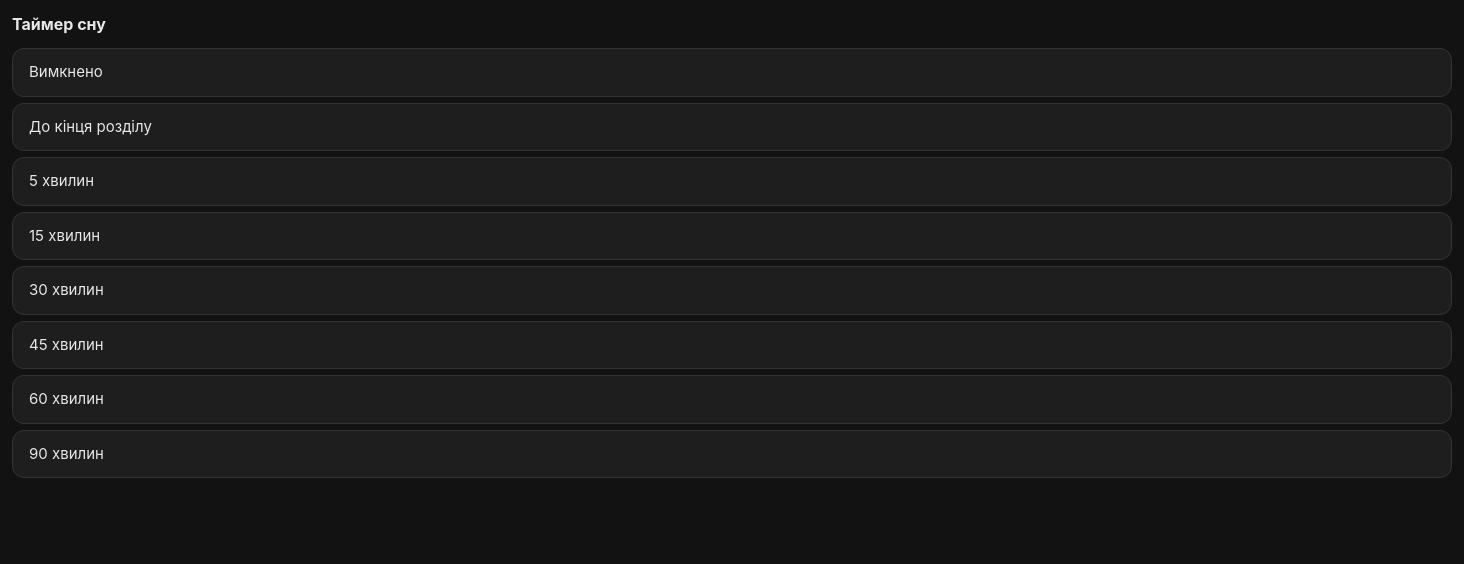
it: SleepTimerPane › arms a countdown, shows the remainder on the transport clock, and extends +15
Click the radio button "15 хвилин": (65, 235) [12,212,1452,260]
Wait 60000 ms
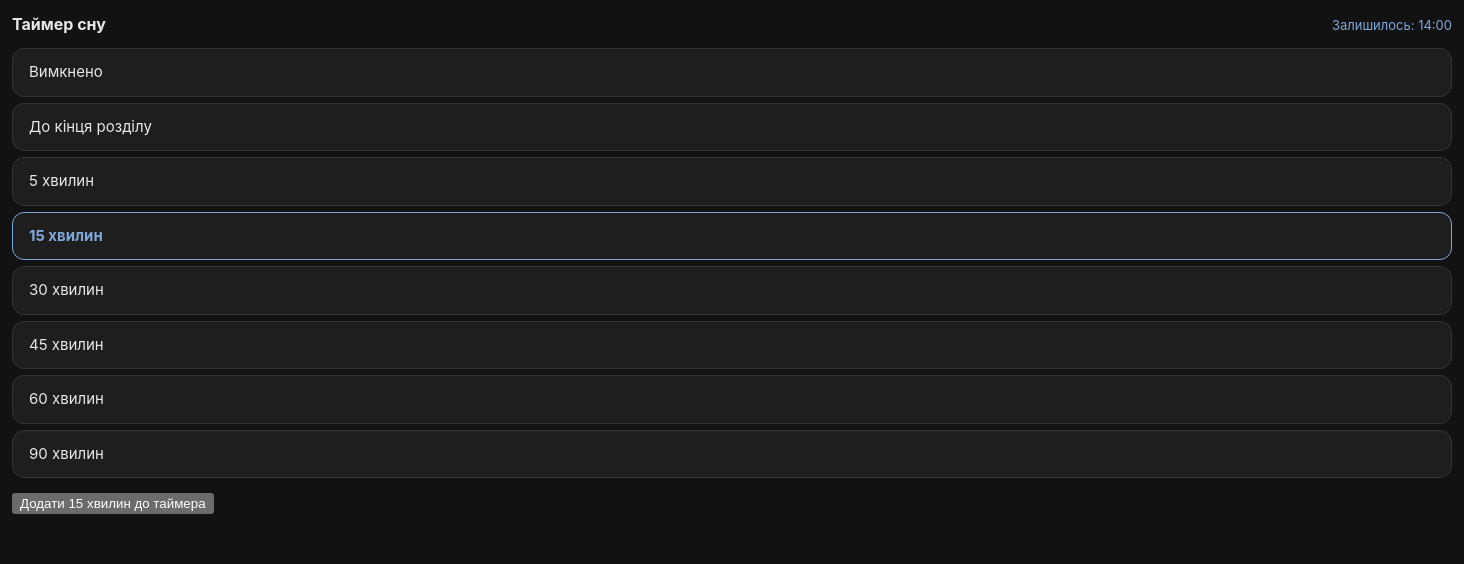
expect the text "Залишилось: 14:00" is shown: met, box [1332,16,1452,36]
Click the button "Додати 15 хвилин до таймера": (113, 504) [12,493,214,514]
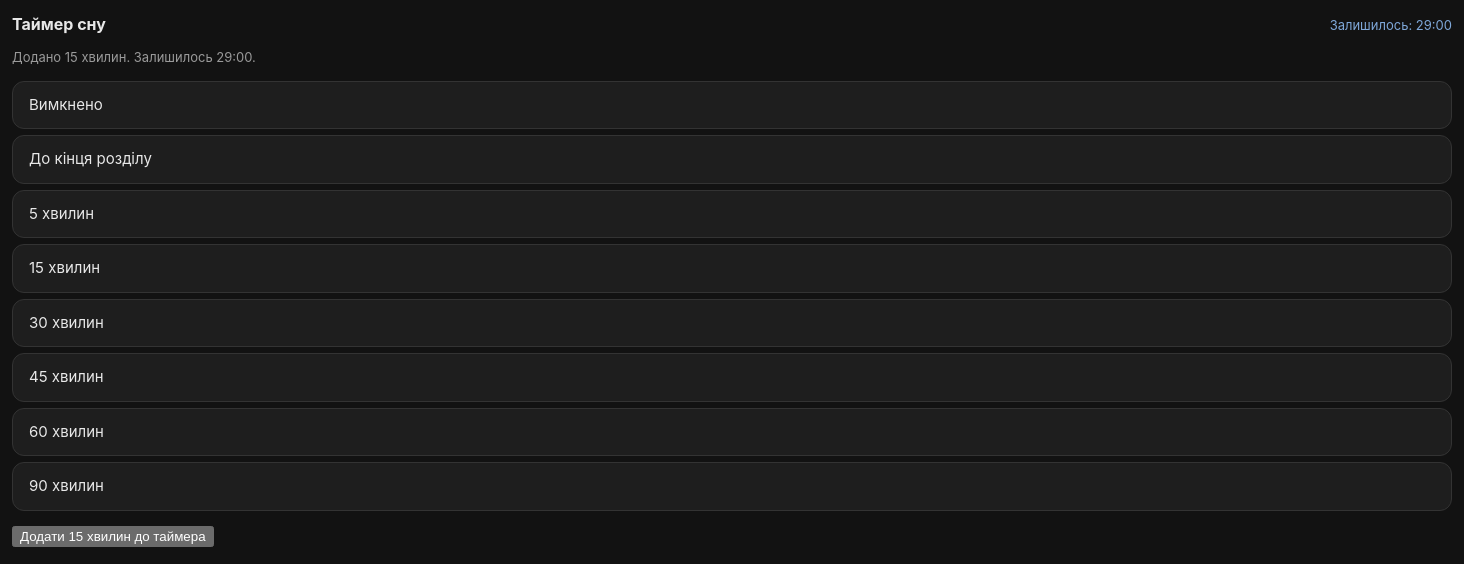
expect the text "Залишилось: 29:00" is shown: met, box [1330,16,1452,36]
